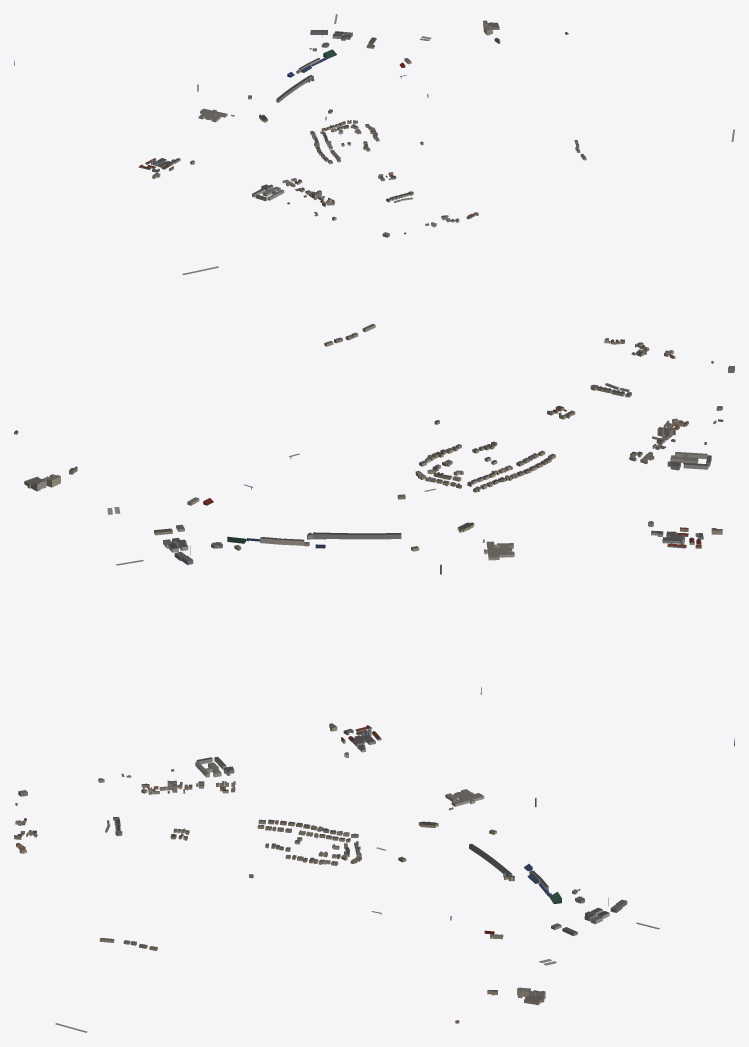
The model's file is scenery.glb.
3 views of the same model, one above another, from view 1: azimuth 30°, elevation 25°; view 2: azimuth 150°, elevation 25°; view 3: azimuth 270°, elevation 25° (orthographic). The views are drawn at different scales.
Visible parts, largest first — view 1: chunk_14_15, chunk_13_16, chunk_15_13, chunk_12_15, chunk_14_14; view 2: chunk_14_15, chunk_13_16, chunk_14_14, chunk_15_13, chunk_12_15; view 3: chunk_14_15, chunk_13_16, chunk_15_13, chunk_14_14, chunk_12_15.
Boxes of the visible parts, box(x1,y1,x2,y2) form: chunk_14_15: box(310, 116, 423, 164); chunk_13_16: box(252, 178, 336, 220); chunk_15_13: box(309, 14, 376, 66); chunk_12_15: box(138, 158, 180, 178); chunk_14_14: box(248, 70, 332, 122); chunk_14_15: box(415, 420, 555, 492); chunk_13_16: box(629, 406, 723, 470); chunk_14_14: box(304, 494, 474, 551); chunk_15_13: box(116, 524, 259, 565); chunk_12_15: box(651, 527, 722, 548); chunk_14_15: box(249, 819, 385, 878); chunk_13_16: box(98, 756, 235, 794); chunk_15_13: box(538, 883, 659, 936); chunk_14_14: box(398, 821, 532, 881); chunk_12_15: box(329, 723, 381, 752).
Size of the model in its own units: 1959 by 59.57 by 1953.
